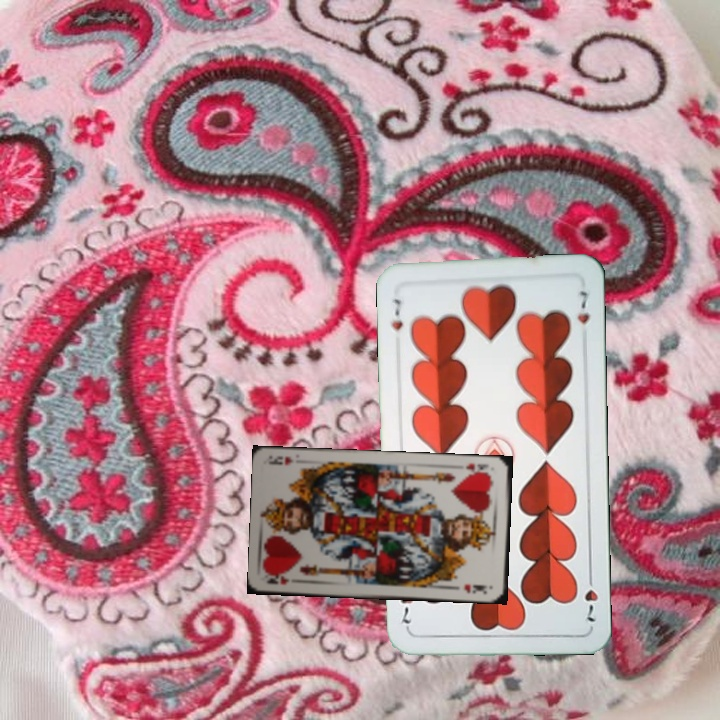H7: (580, 569, 600, 626), (388, 294, 406, 333)
HK: (461, 459, 493, 478), (263, 570, 292, 587)
